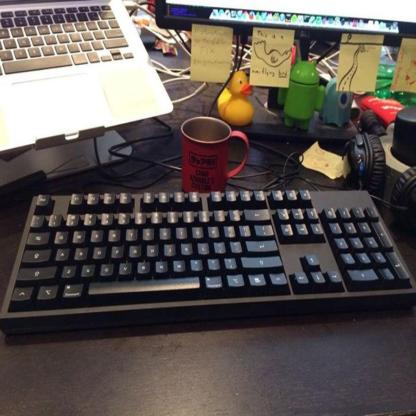board: (0, 0, 174, 190)
